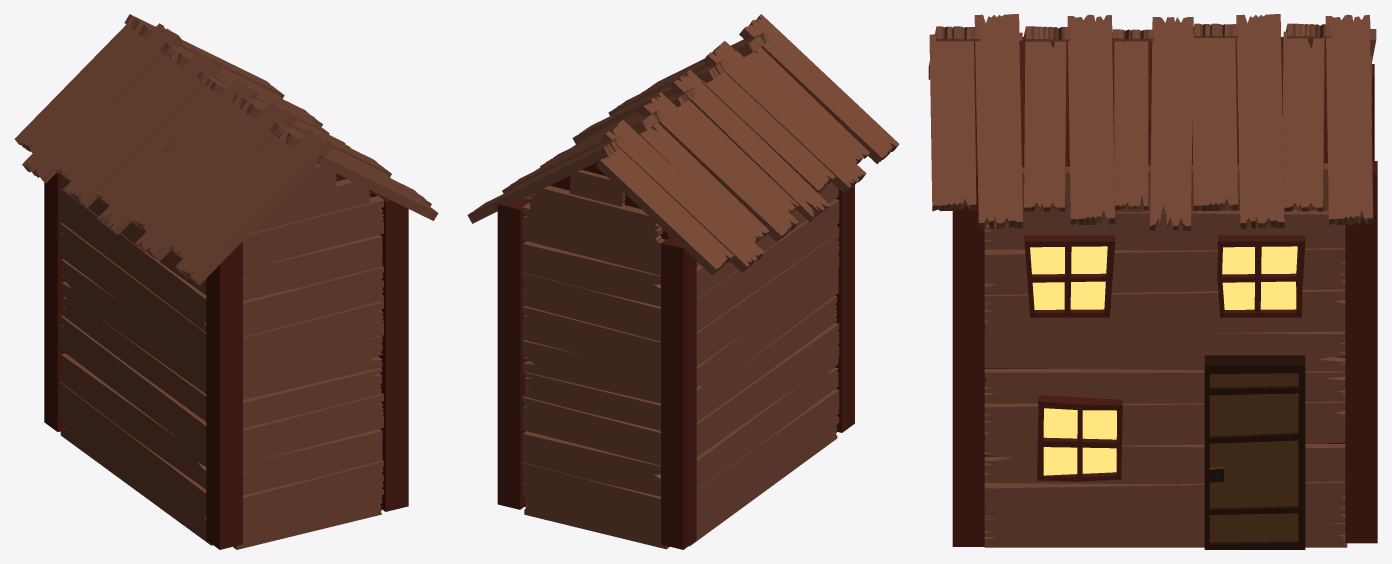
File: house 3.fbx
3 renders of one model, left to right at view 1: azimuth 30°, elevation 25°; view 2: azimuth 150°, elevation 25°; view 3: azimuth 270°, elevation 25°, orthographic. The views are drawn at different scales.
Parts seen in each view (by area): view 1: Pillar.002, Pillar, Cube.045, Cube.038, Cube.066, Cube.036, Cube.064, Cube.011, Cube.010, Cube.043, Cube.022, Cube.052 (+29 smaller); view 2: Pillar.003, Pillar.001, Cube.066, Cube.064, Cube.038, Cube.011, Cube.045, Cube.055, Cube.010, Cube.037, Cube.016, Cube.043 (+26 smaller); view 3: door, Cube.003, Cube.069, Cube.004, Pillar, Pillar.001, Cube.028, Cube.035, Cube.033, Cube.026, Cube.006, Cube.030 (+19 smaller).
Part boxes in pixels (<box>): Pillar.002: <box>206,241,242,549</box>; Pillar: <box>372,192,408,511</box>; Cube.045: <box>175,129,334,285</box>; Cube.038: <box>63,51,222,207</box>; Cube.066: <box>60,315,206,459</box>; Cube.036: <box>22,23,183,182</box>; Cube.064: <box>60,382,206,526</box>; Cube.011: <box>60,223,206,366</box>; Cube.010: <box>60,188,206,332</box>; Cube.043: <box>135,102,296,261</box>; Cube.022: <box>243,266,383,337</box>; Cube.052: <box>243,460,383,531</box>; Pillar.003: <box>661,237,696,549</box>; Pillar.001: <box>497,198,530,509</box>; Cube.066: <box>696,323,839,456</box>; Cube.064: <box>696,389,839,521</box>; Cube.038: <box>638,92,798,242</box>; Cube.011: <box>696,233,839,366</box>; Cube.045: <box>739,14,899,164</box>; Cube.055: <box>522,396,660,465</box>; Cube.010: <box>696,199,839,331</box>; Cube.037: <box>596,149,733,275</box>; Cube.016: <box>522,306,660,374</box>; Cube.043: <box>702,41,866,193</box>; door: <box>1204,355,1305,549</box>; Cube.003: <box>984,331,1345,371</box>; Cube.069: <box>984,481,1345,528</box>; Cube.004: <box>984,289,1345,335</box>; Pillar: <box>952,161,984,546</box>; Pillar.001: <box>1345,161,1377,543</box>; Cube.028: <box>1236,14,1284,229</box>; Cube.035: <box>974,14,1023,229</box>; Cube.033: <box>1067,14,1115,225</box>; Cube.026: <box>1325,14,1373,225</box>; Cube.006: <box>984,210,1345,250</box>; Cube.030: <box>1150,17,1193,230</box>.
Bounding box in the file's own units: 1108 × 1564 × 1339.
